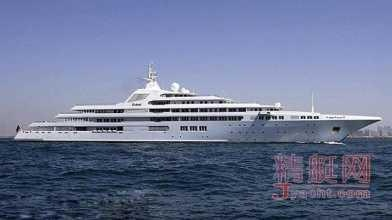yacht: (14, 66, 385, 145)
